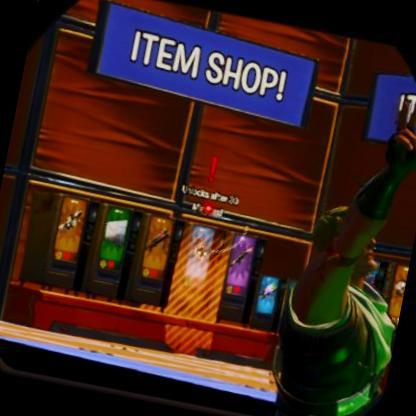person: (266, 55, 416, 416)
